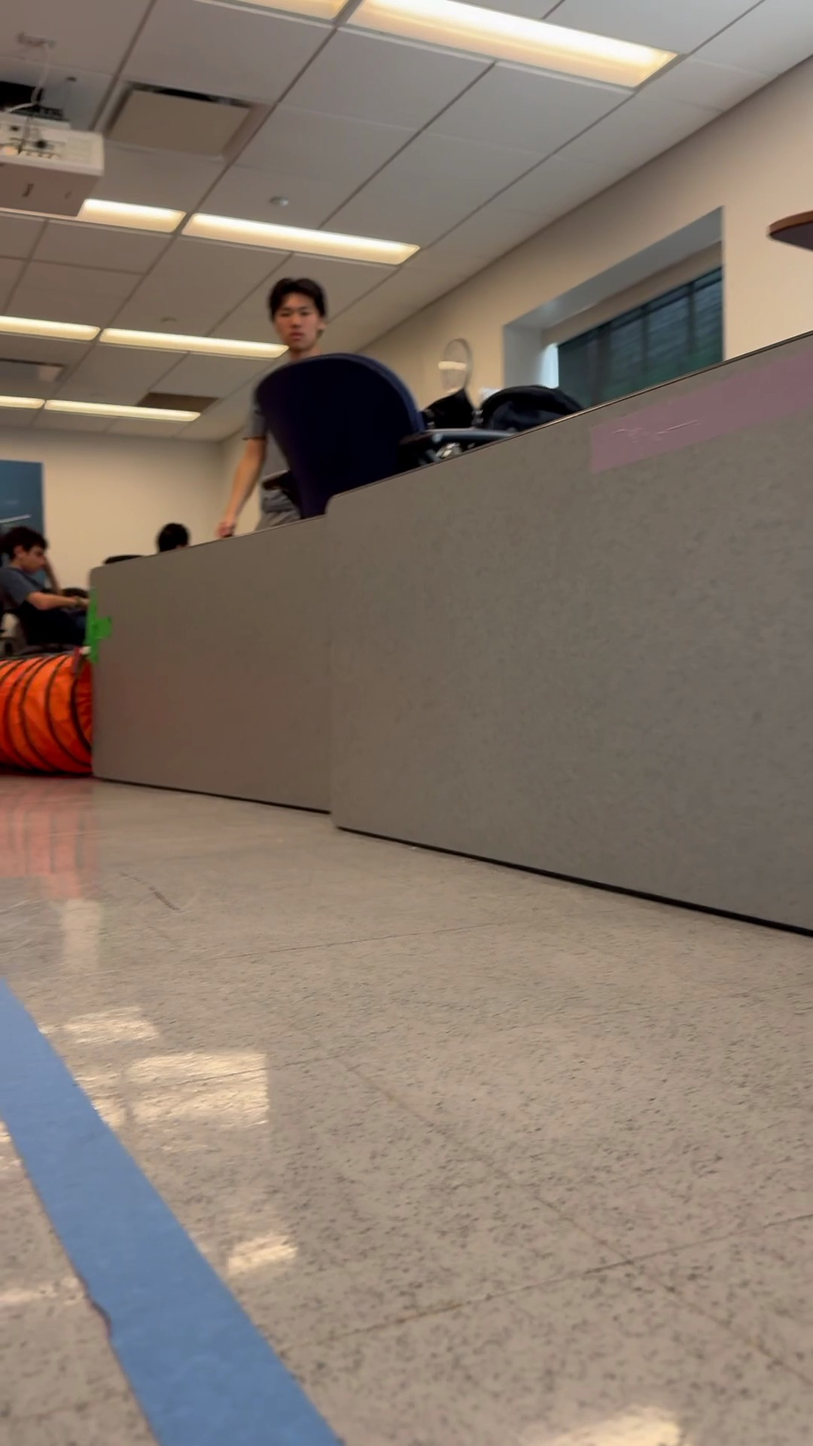racecar: (411, 379, 582, 459)
